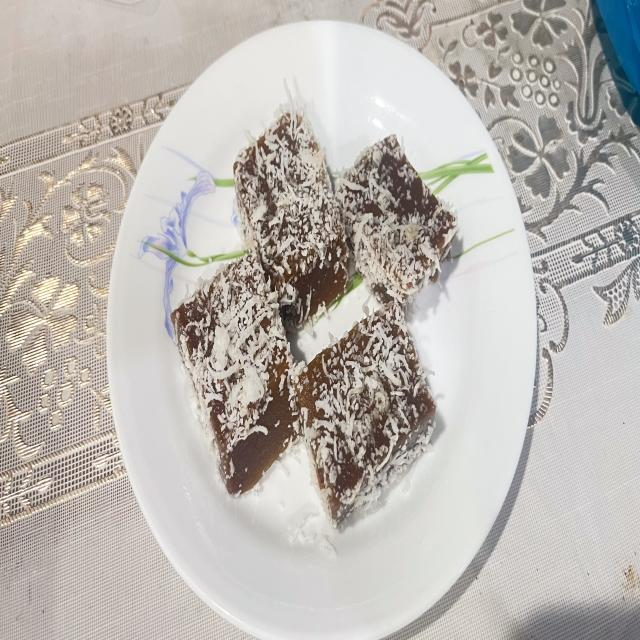kaswi: (298, 302, 436, 524), (171, 256, 299, 493), (234, 107, 348, 329), (336, 136, 458, 304)
